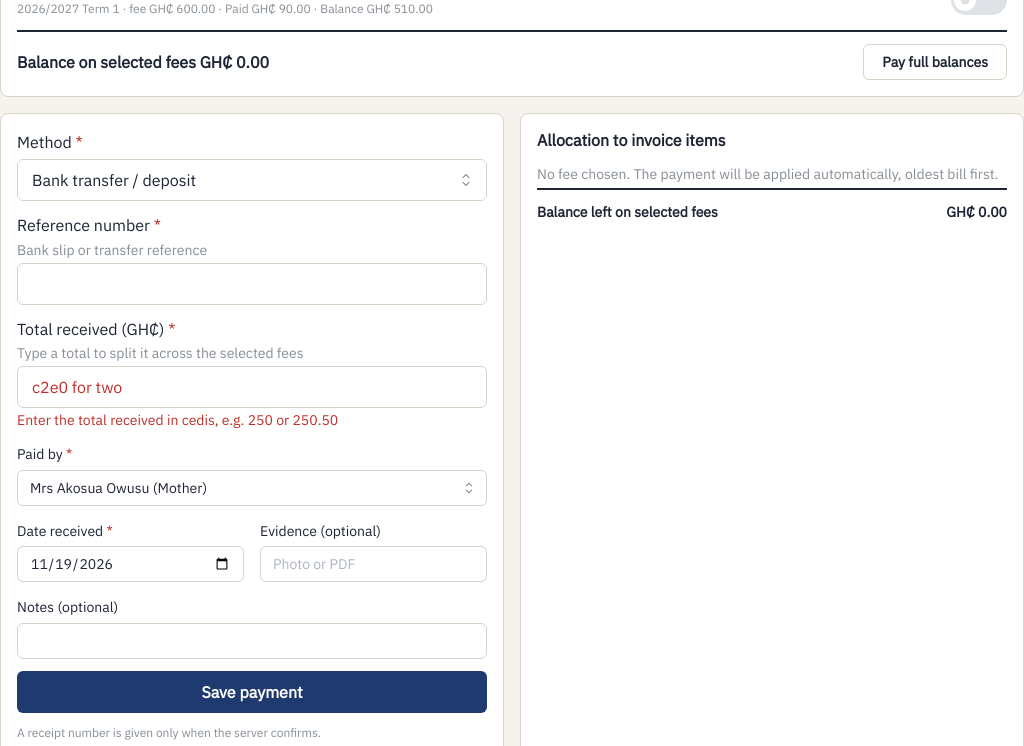
Test: payment form › requires a reference for everything except cash
The width and height of the screenshot is (1024, 746).
Earlier steps of the test are not shown.
(page scrolled)
Press the mouse on the button "Save payment" at (252, 692), box top-left (17, 671), bottom-right (487, 713)
Press the mouse on the button "Save payment" at (252, 692), box top-left (17, 671), bottom-right (487, 713)
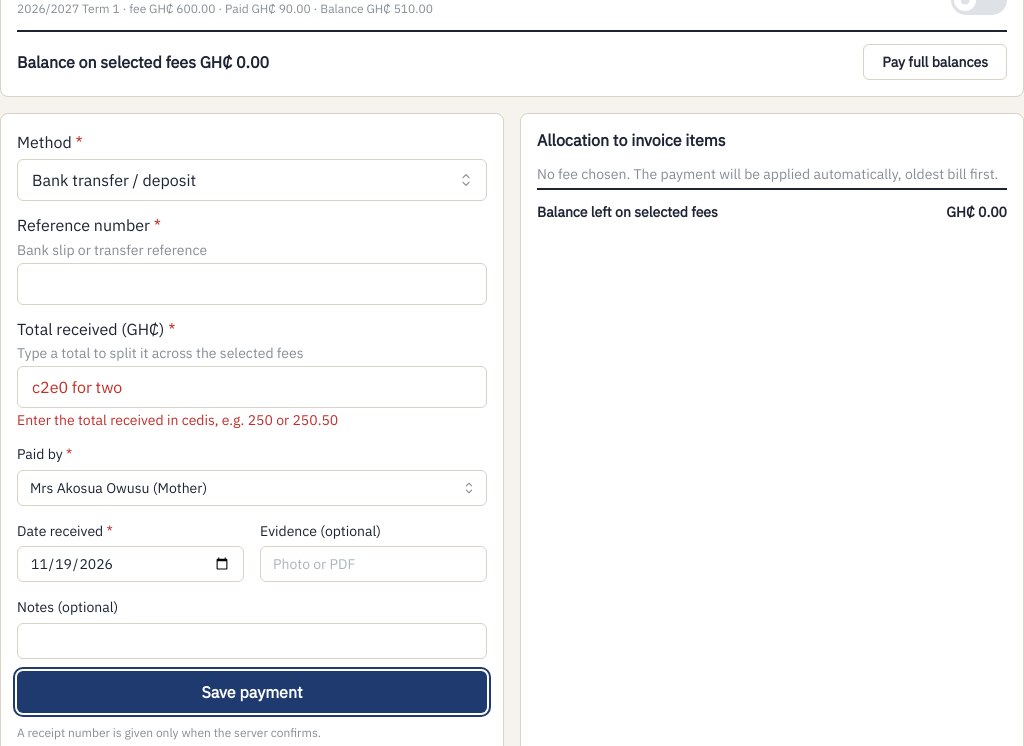
Click the button "Save payment" at (252, 692), box top-left (17, 671), bottom-right (487, 713)
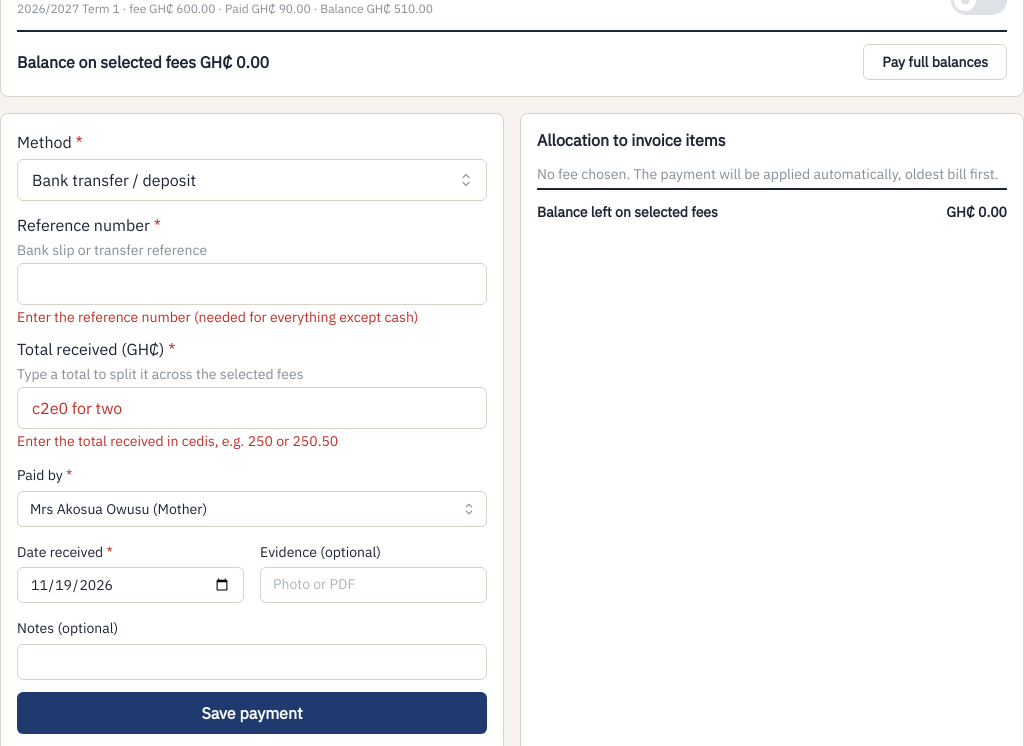
Expected: the text "Enter the reference number" is shown, top-left (17, 308), bottom-right (418, 326)
